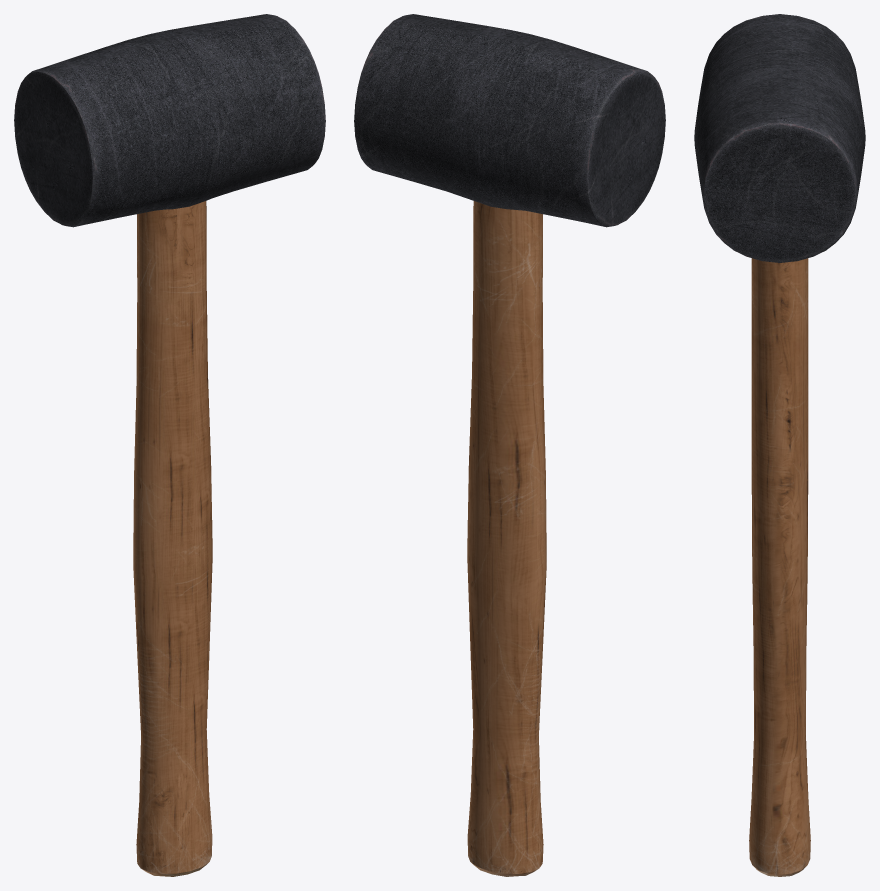
The model's file is rubber_mallet(POSER).obj.
The picture shows the model from 3 angles, left to right: view 1: azimuth 30°, elevation 25°; view 2: azimuth 150°, elevation 25°; view 3: azimuth 270°, elevation 25°; orthographic projection. The views are drawn at different scales.
Parts seen in each view (by area): view 1: rubber_mallet; view 2: rubber_mallet; view 3: rubber_mallet.
Part boxes in pixels (x1,y1,x2,y2): rubber_mallet: (14, 14, 325, 876); rubber_mallet: (354, 14, 665, 876); rubber_mallet: (694, 14, 865, 876).
Size of the model in its own units: 0.0338 by 0.114 by 0.0221.
2 materials, 2 textured.
